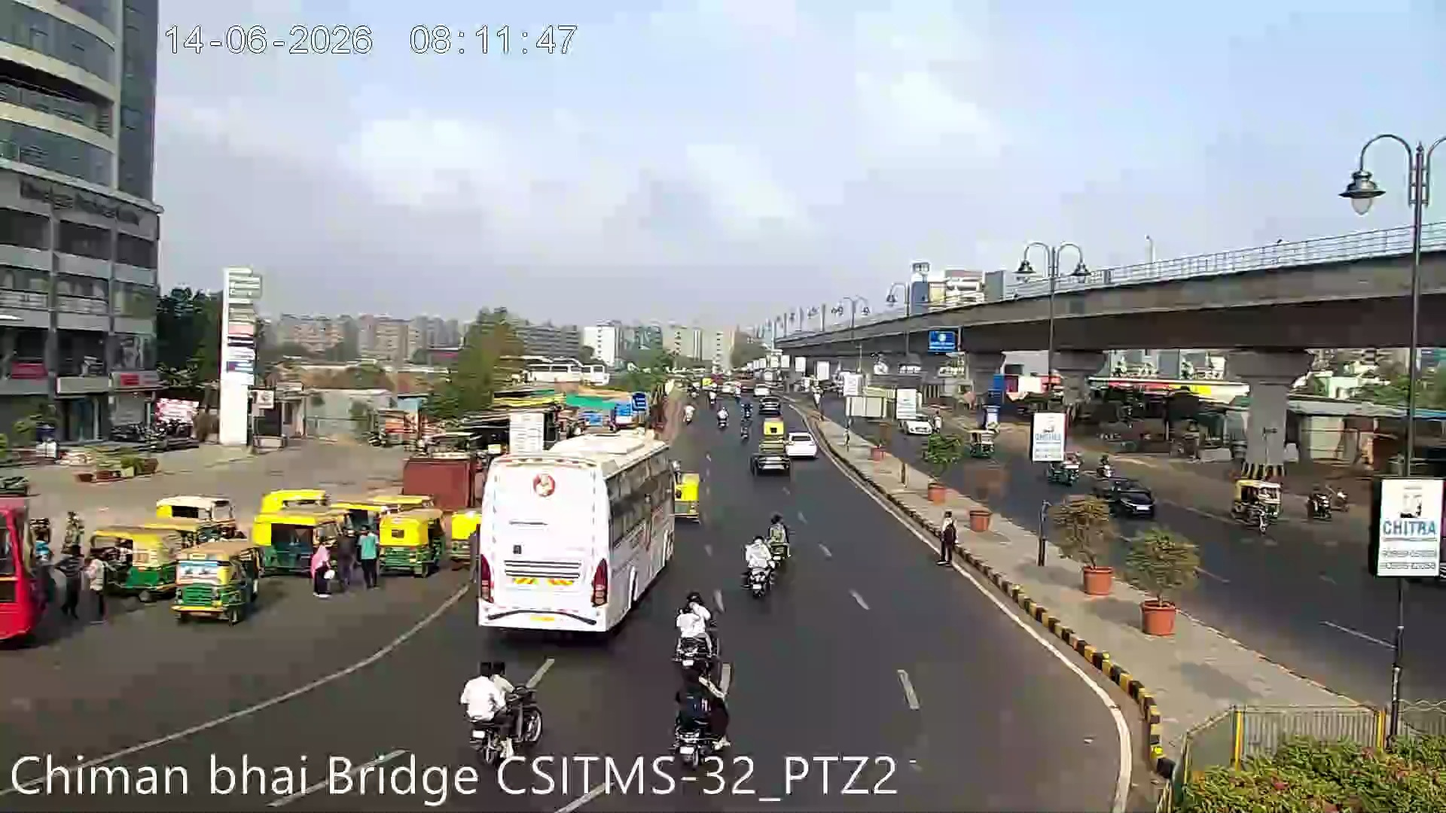auto_rickshaw: (250, 484, 353, 576), (170, 538, 263, 623), (82, 520, 185, 596), (376, 506, 440, 574), (448, 510, 480, 560), (674, 472, 703, 521)
bus: (476, 436, 683, 627), (0, 483, 53, 654)
car: (752, 440, 789, 474), (786, 428, 820, 462)
pedestrian: (933, 505, 961, 568), (87, 559, 108, 626), (59, 565, 82, 626), (358, 536, 378, 591), (714, 400, 730, 432)
two_wheeler: (668, 675, 733, 750), (456, 657, 524, 725), (670, 588, 719, 661), (751, 510, 793, 579), (739, 529, 781, 597)
